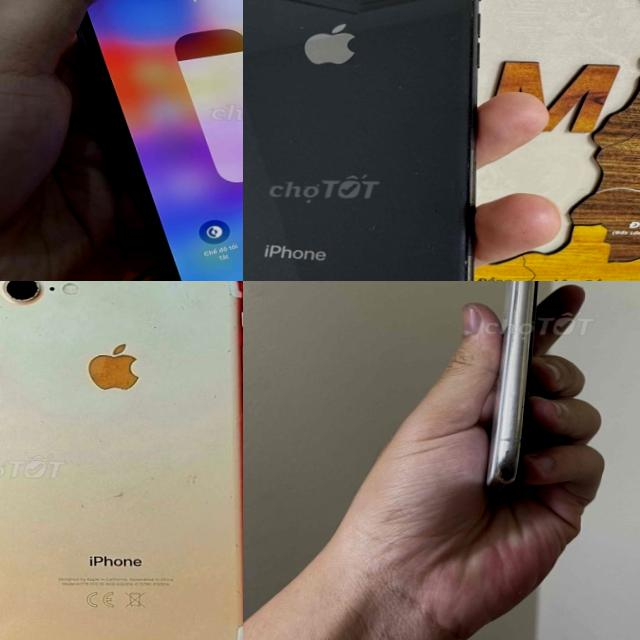gen_11: (57, 0, 243, 281)
gen_7_8: (0, 281, 243, 640), (243, 0, 489, 281)
gen_x_xs: (485, 281, 538, 490)
